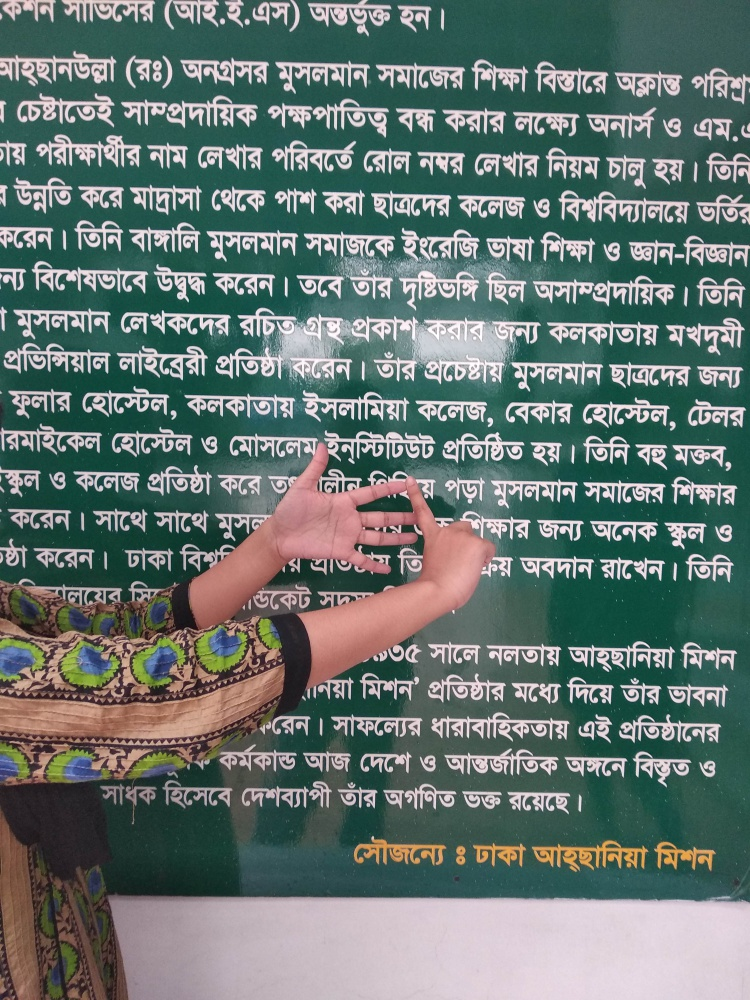o: (253, 446, 485, 600)
